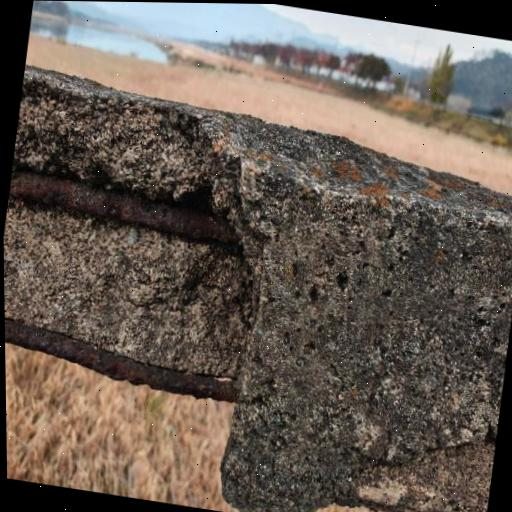exposed_rebar: (5, 319, 237, 403), (9, 173, 238, 244)
spalling: (4, 67, 251, 402)
